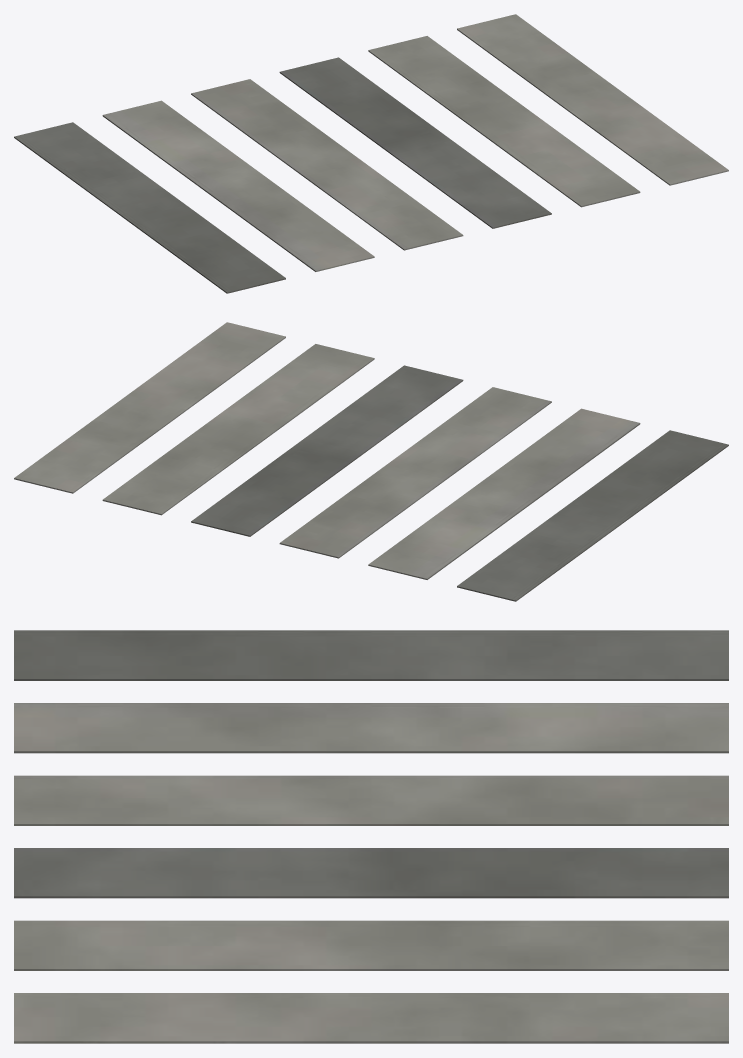
Rendered from road_marking_cross_idle.glb.
3 renders of one model, top to bottom at view 1: azimuth 30°, elevation 25°; view 2: azimuth 150°, elevation 25°; view 3: azimuth 270°, elevation 25°, orthographic. The views are drawn at different scales.
Parts seen in each view (by area): view 1: road_marking_cross; view 2: road_marking_cross; view 3: road_marking_cross.
Boxes of the visible parts, bbox=[...] form: road_marking_cross: bbox=[14, 14, 728, 293]; road_marking_cross: bbox=[14, 322, 728, 601]; road_marking_cross: bbox=[14, 630, 728, 1043].
Size of the model in its own units: 3.4 by 0.008 by 2.5.
1 material, 1 textured.
